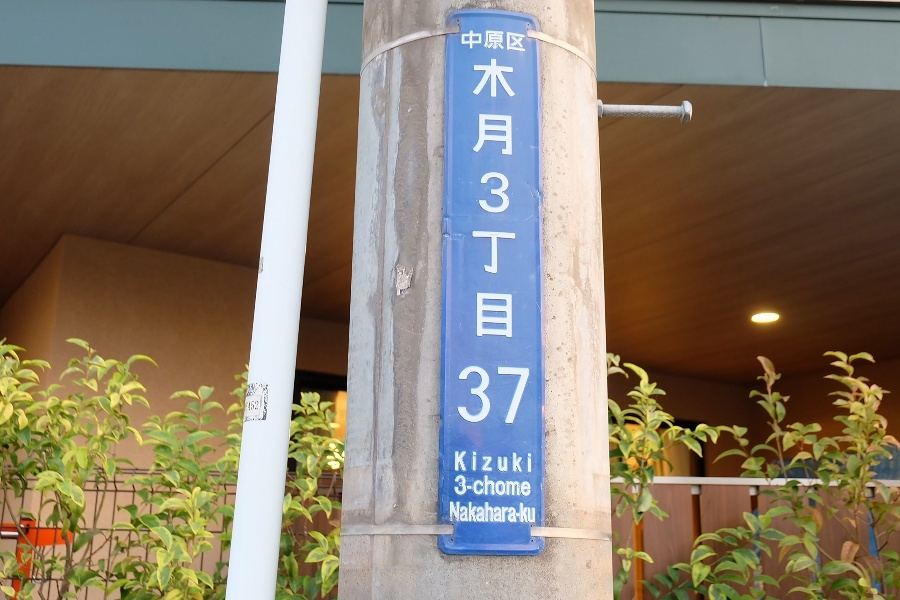text: (481, 59, 496, 428), (497, 59, 512, 428), (513, 59, 528, 428), (468, 59, 480, 428), (529, 59, 532, 428), (465, 30, 480, 55), (481, 30, 496, 55), (497, 30, 512, 55), (465, 501, 480, 524), (481, 501, 496, 524), (497, 501, 512, 524), (513, 501, 528, 524), (450, 501, 464, 524), (465, 452, 480, 473), (481, 452, 496, 473), (497, 452, 512, 473), (513, 452, 528, 473), (465, 476, 480, 497), (481, 476, 496, 497), (497, 476, 512, 497), (513, 476, 528, 497), (513, 30, 525, 55), (455, 452, 464, 473), (455, 476, 464, 497), (529, 501, 536, 524), (461, 30, 464, 55), (529, 452, 532, 473), (529, 476, 531, 497)
